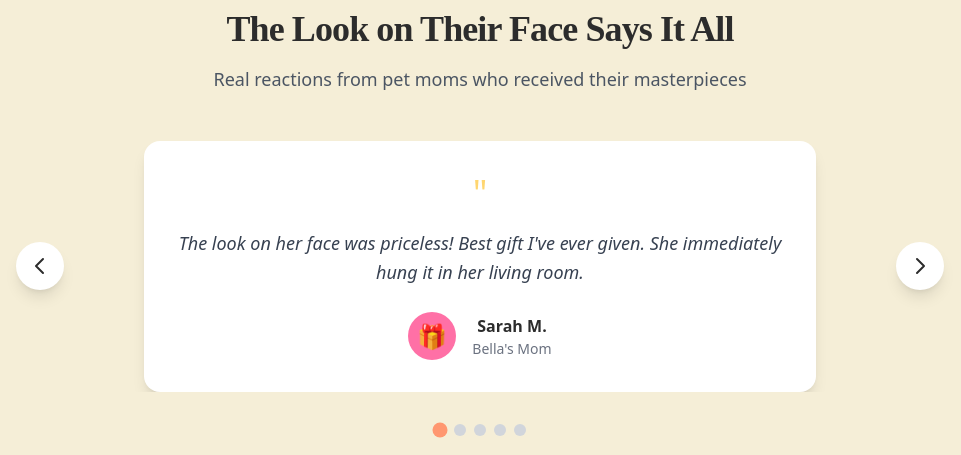
it: ReactionsSection › navigates to specific testimonial when dot is clicked
Click the button named "Go to testimonial 3" at (480, 430), box [474,424,486,436]
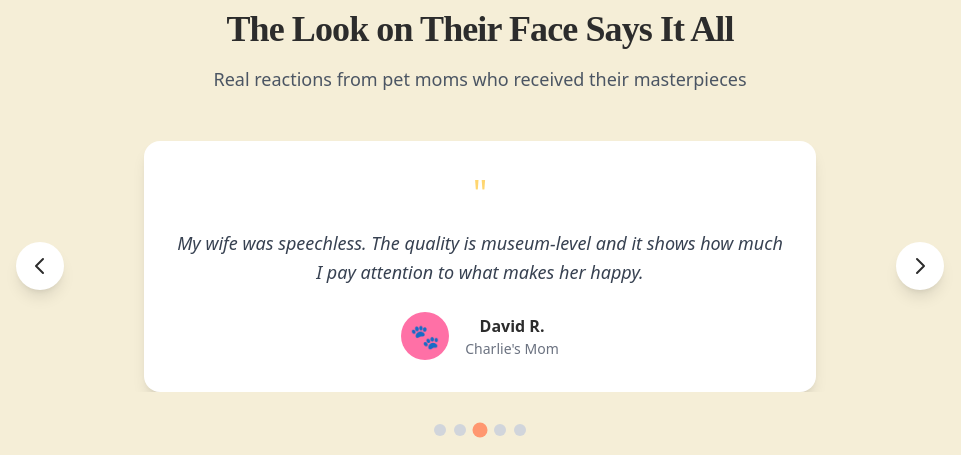
Expected: the text "My wife was speechless" is shown, [177,231,783,284]
Expected: the text "David R." is shown, [480,314,544,336]
